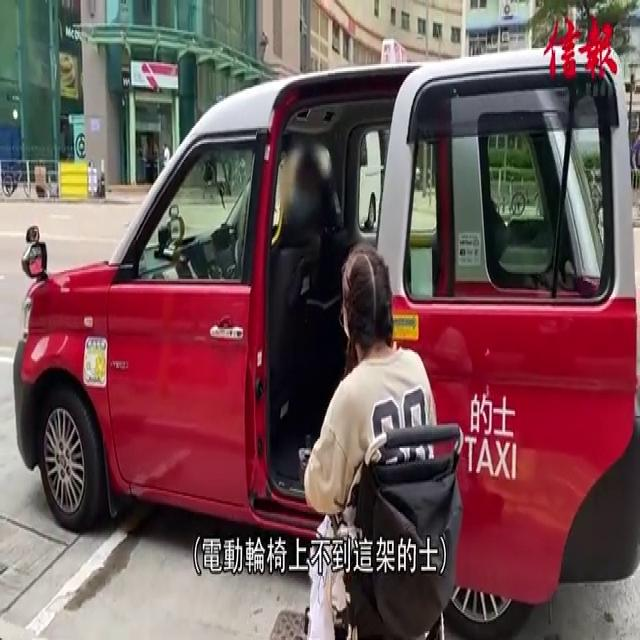wheelchairs: (287, 394, 475, 640)
